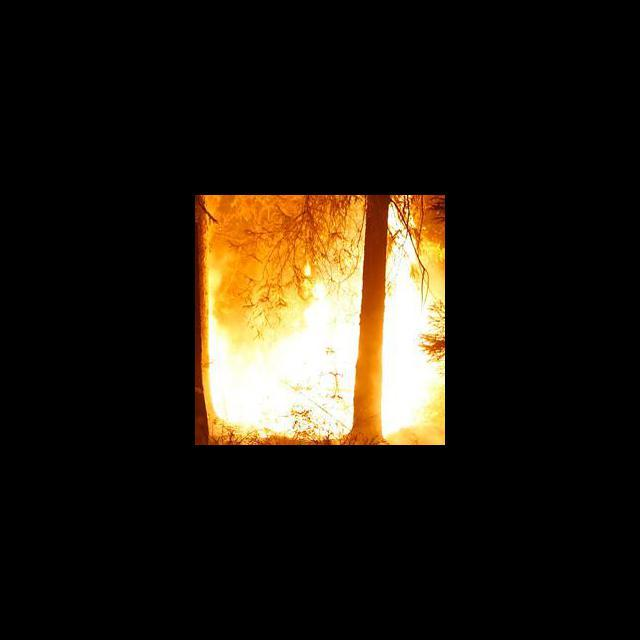Fire: (205, 206, 438, 435)
